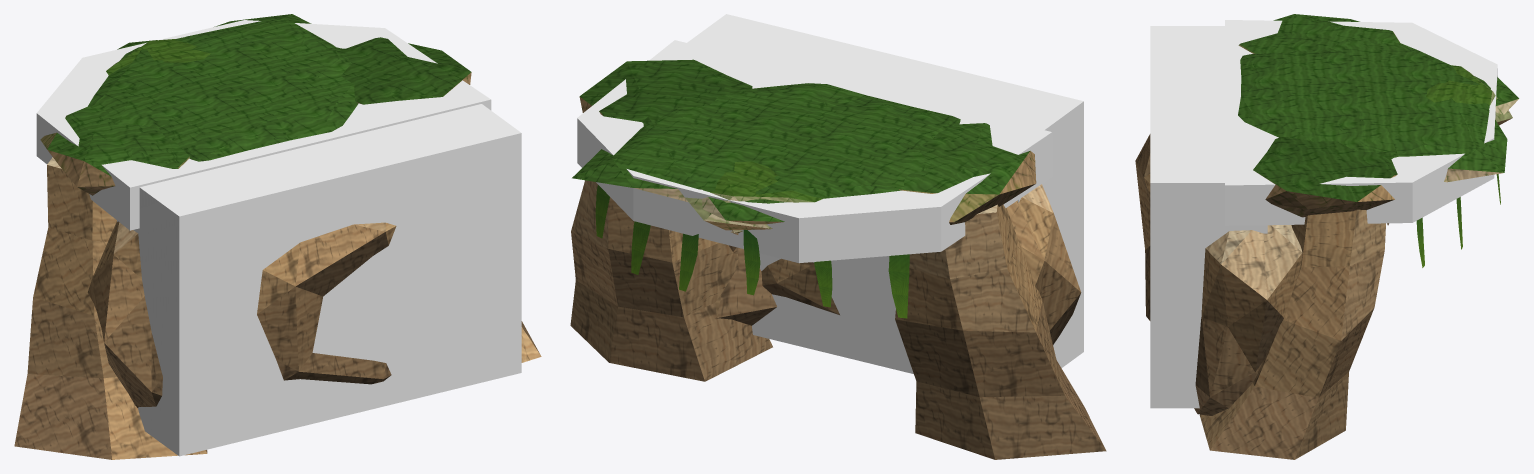
Rendered from cliff_overhang_ledge.glb.
3 views of the same model, side by side, from view 1: azimuth 30°, elevation 25°; view 2: azimuth 150°, elevation 25°; view 3: azimuth 270°, elevation 25° (orthographic). The views are drawn at different scales.
Visible parts, largest first — view 1: col_ledge_heel, CliffOverhangLedge, col_ledge_top; view 2: CliffOverhangLedge, col_ledge_heel, col_ledge_top; view 3: CliffOverhangLedge, col_ledge_heel, col_ledge_top.
Part boxes in pixels (bbox=[...]): col_ledge_heel: bbox=[117, 104, 521, 456]; CliffOverhangLedge: bbox=[14, 14, 541, 459]; col_ledge_top: bbox=[36, 20, 491, 230]; CliffOverhangLedge: bbox=[570, 59, 1106, 459]; col_ledge_heel: bbox=[687, 14, 1083, 373]; col_ledge_top: bbox=[577, 40, 1052, 263]; CliffOverhangLedge: bbox=[1135, 14, 1519, 459]; col_ledge_heel: bbox=[1150, 26, 1267, 408]; col_ledge_top: bbox=[1225, 20, 1497, 225].
Bounding box in the file's own units: 16.17 × 8.17 × 11.28.
Materials: 4 (3 with a texture image).
